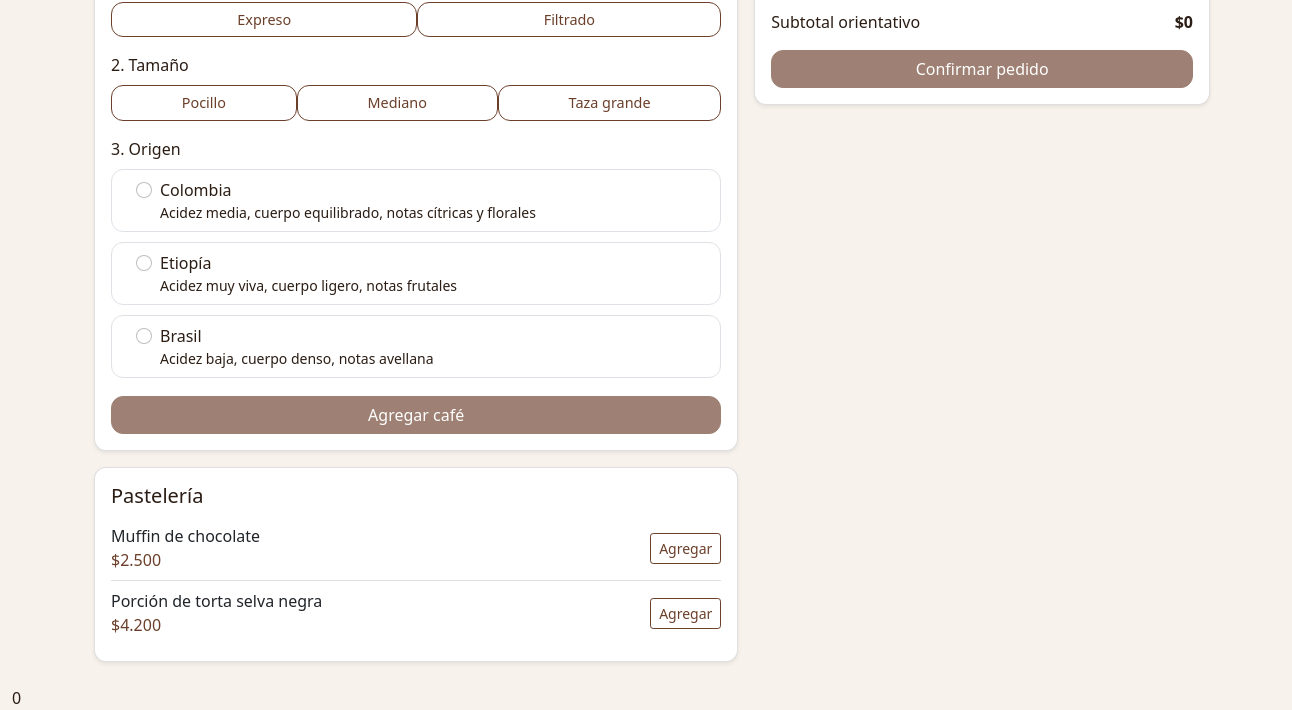
Test: muestra el error del servidor, conserva el carrito y permite confirmar al reintentar
(page scrolled)
Step 1. Click the button with aria-label "Agregar Muffin de chocolate" → (686, 548), box x1=650 y1=532 x2=721 y2=564
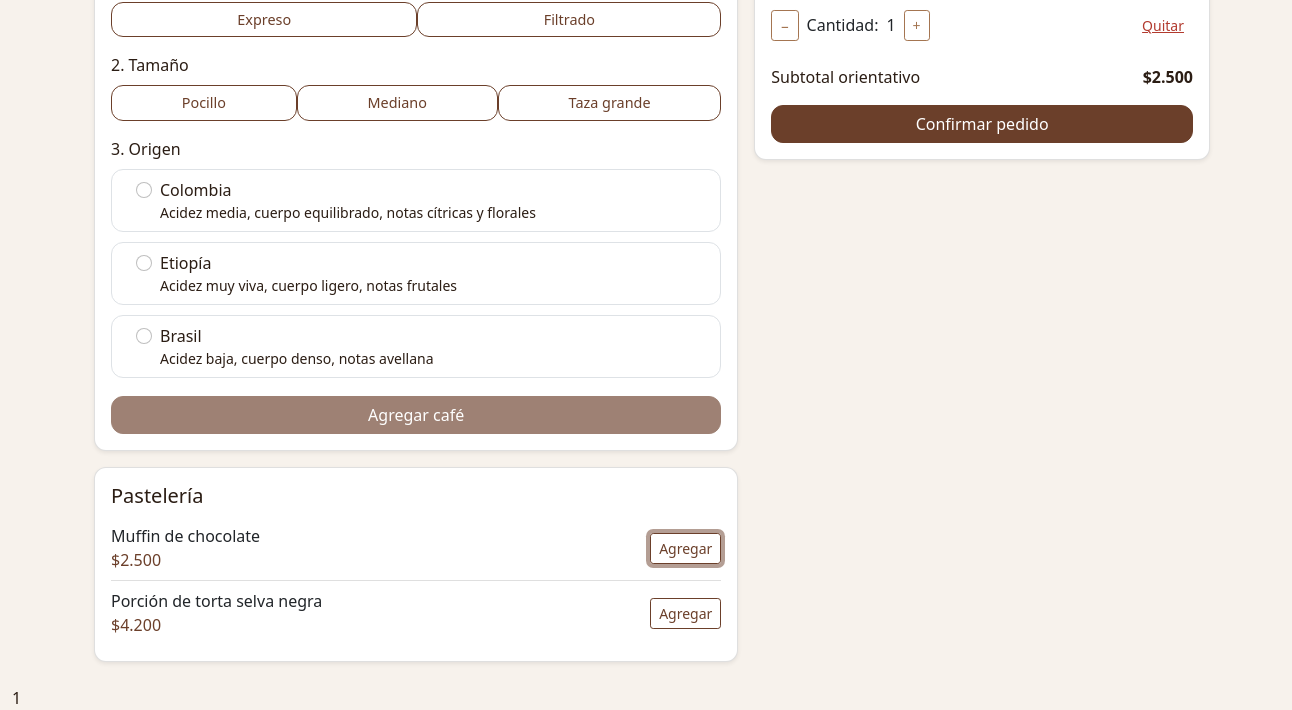
Step 2. Click the button "Confirmar pedido" → (982, 124), box x1=771 y1=105 x2=1193 y2=143
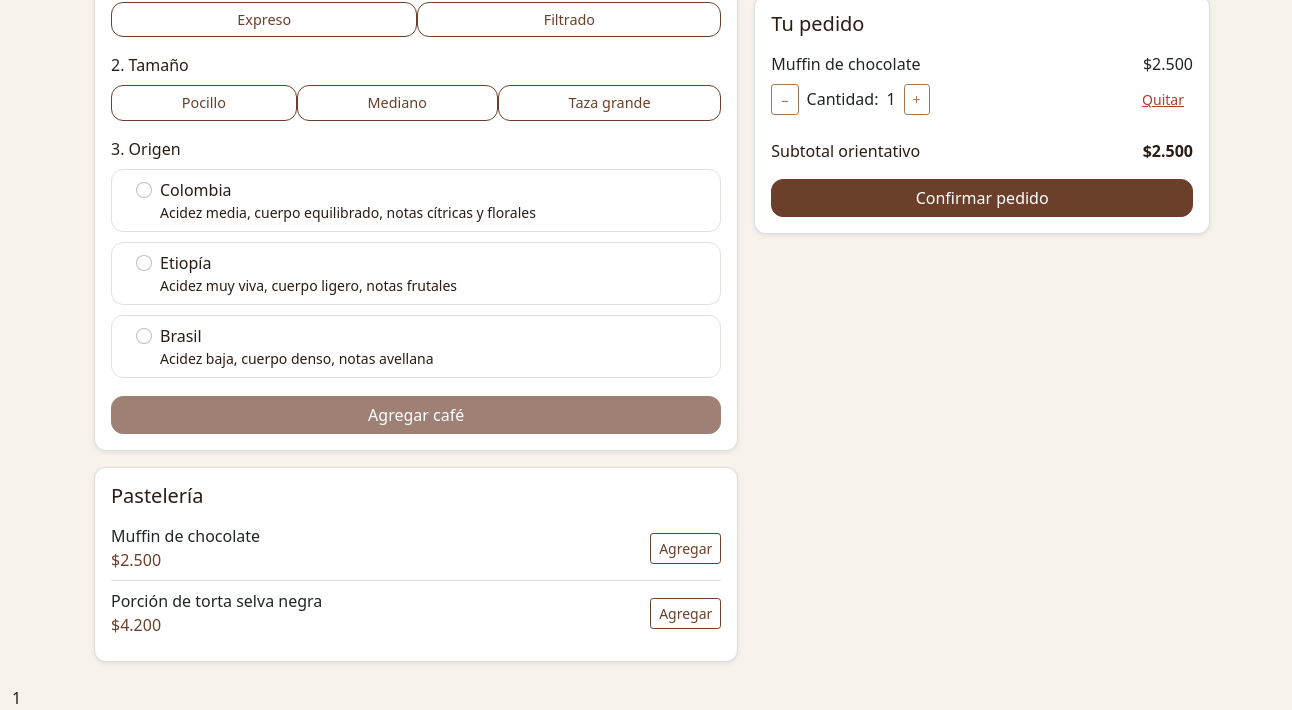
Expected: the heading "Pedido #" is not shown
Now the text "1" next to "Cantidad:" is shown, box x1=886 y1=88 x2=896 y2=110
Now the text named "Entradas del carrito" reads "1", box x1=12 y1=686 x2=21 y2=709
Step 3. Click the button "Confirmar pedido" → (982, 198), box x1=771 y1=179 x2=1193 y2=217
(page scrolled)
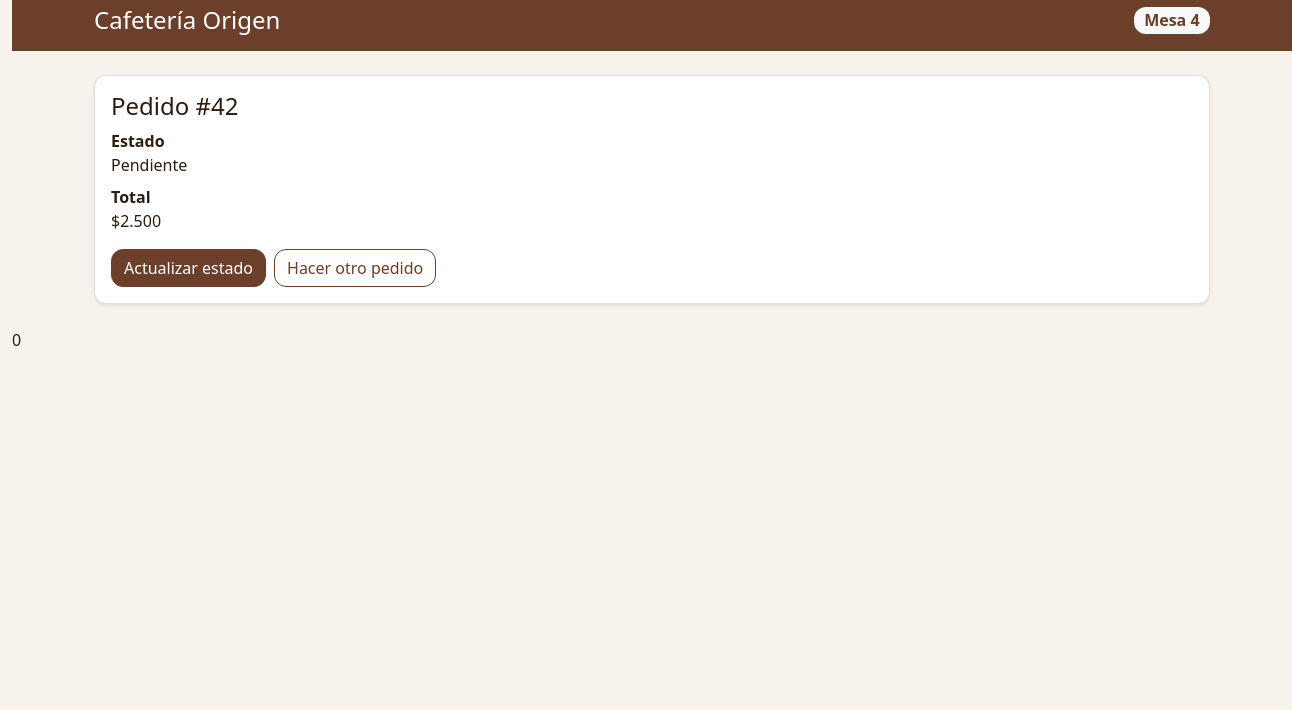
Now the heading "Pedido #42" is shown, box x1=111 y1=89 x2=238 y2=122
Now the text named "Entradas del carrito" reads "0", box x1=12 y1=328 x2=21 y2=352
